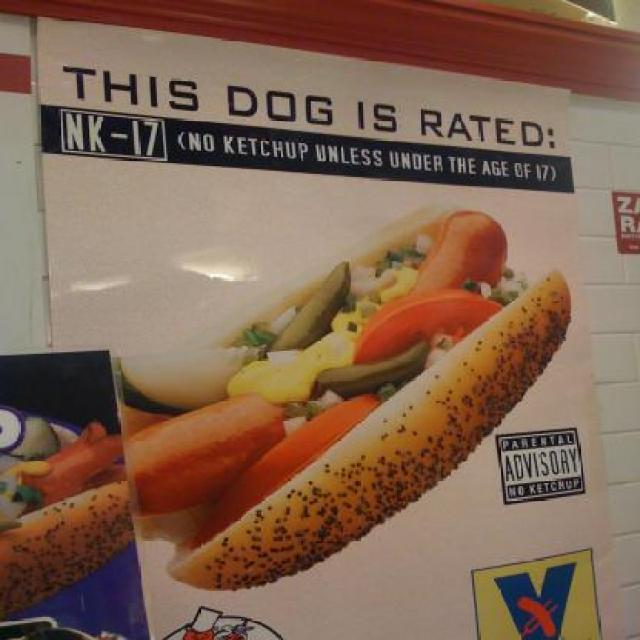Hot dog: (117, 193, 580, 599)
